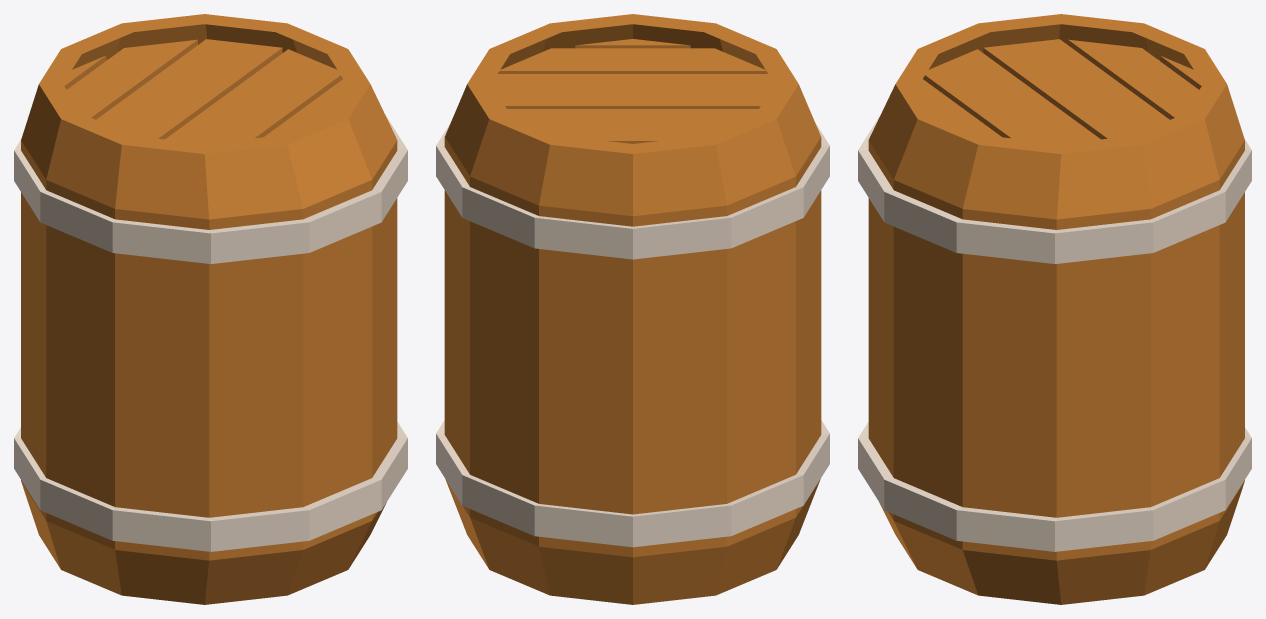
File: tonneaux.fbx
3 views of the same model, side by side, from view 1: azimuth 30°, elevation 25°; view 2: azimuth 150°, elevation 25°; view 3: azimuth 270°, elevation 25° (orthographic).
Parts seen in each view (by area): view 1: Circle, Circle.001, Circle.002; view 2: Circle, Circle.001, Circle.002; view 3: Circle, Circle.001, Circle.002.
Part boxes in pixels (<box>): Circle: <box>21,14,397,604</box>; Circle.001: <box>14,115,407,551</box>; Circle.002: <box>63,39,346,143</box>; Circle: <box>444,14,821,604</box>; Circle.001: <box>436,123,829,547</box>; Circle.002: <box>491,39,774,143</box>; Circle: <box>868,14,1244,604</box>; Circle.001: <box>858,115,1251,551</box>; Circle.002: <box>919,39,1202,143</box>.
Size of the model in its own units: 238 by 300 by 238.
